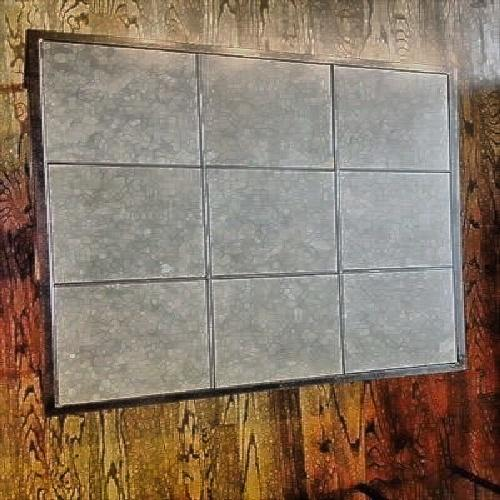table: (36, 29, 465, 415)
